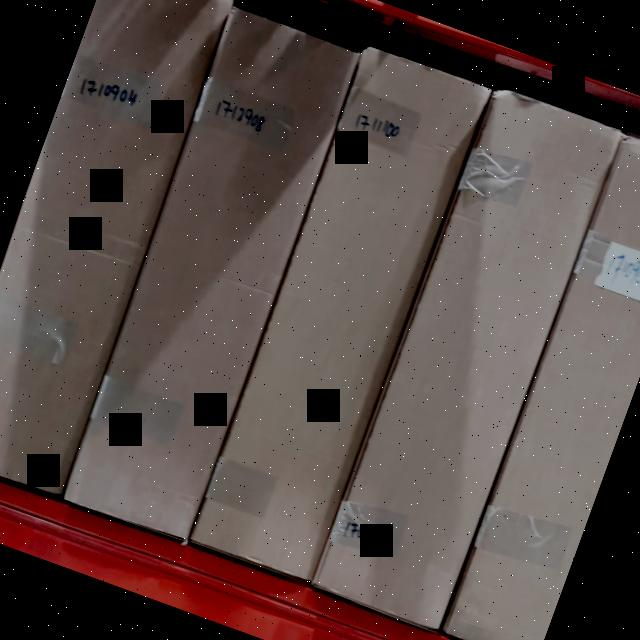box: (318, 94, 617, 630), (59, 14, 359, 544), (192, 48, 488, 582)
